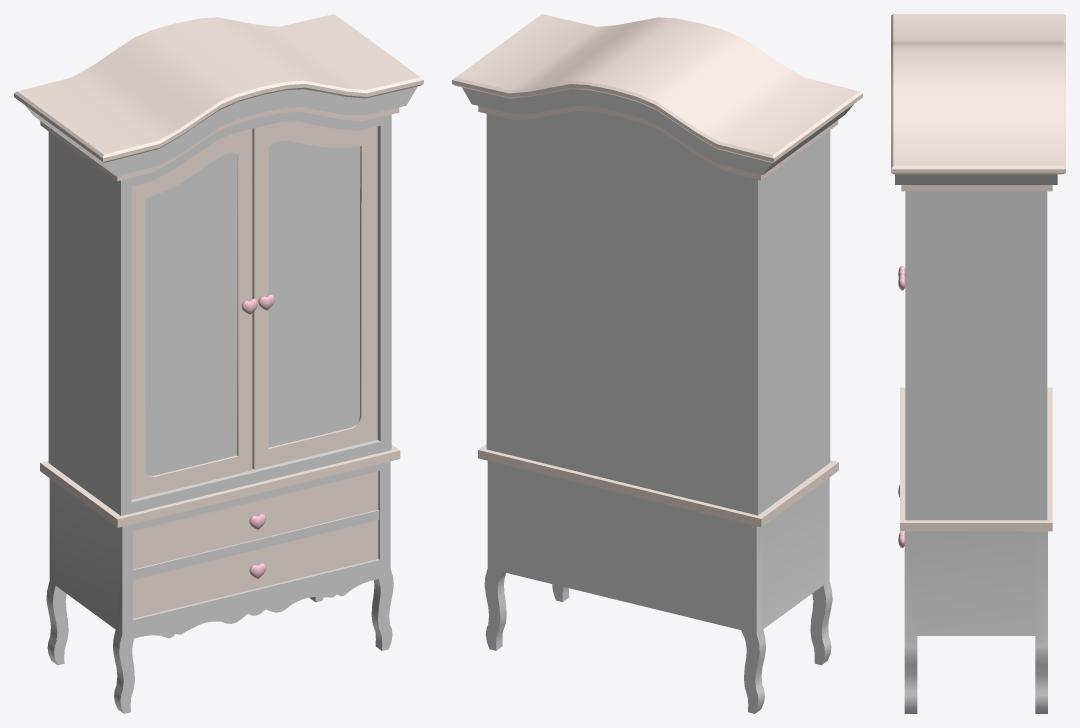
Rendered from wardrobe_K.fbx.
The picture shows the model from 3 angles, left to right: view 1: azimuth 30°, elevation 25°; view 2: azimuth 150°, elevation 25°; view 3: azimuth 270°, elevation 25°; orthographic projection.
Visible parts, largest first — view 1: polySurface4, polySurface1; view 2: polySurface4, polySurface1; view 3: polySurface4, polySurface1.
Part boxes in pixels (<box>): polySurface4: <box>25,86,417,713</box>; polySurface1: <box>14,14,423,618</box>; polySurface4: <box>462,87,853,713</box>; polySurface1: <box>452,14,862,527</box>; polySurface4: <box>895,174,1057,713</box>; polySurface1: <box>891,14,1065,531</box>.
Bounding box in the file's own units: 117 × 209 × 56.07.
